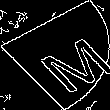M_NW: (9, 21, 101, 89)
